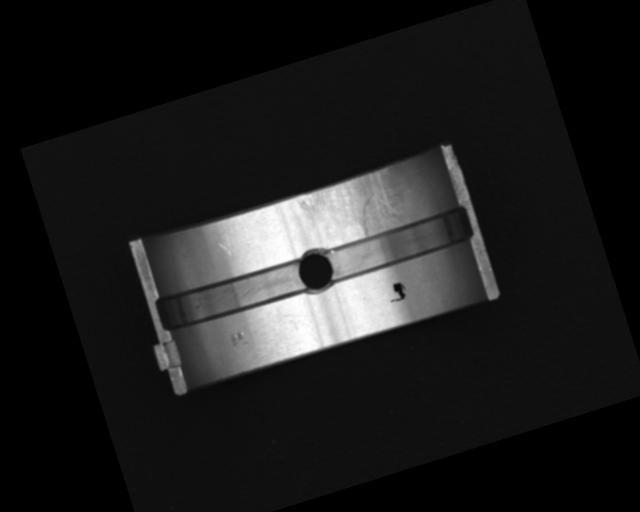blot: (386, 280, 409, 304)
bruise: (228, 331, 246, 348)
gap: (319, 205, 473, 284), (154, 256, 308, 334)
hole: (294, 243, 340, 296)
nick: (219, 237, 246, 278)
scratch: (298, 166, 410, 251)
